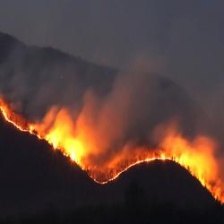fire: (1, 103, 224, 199)
